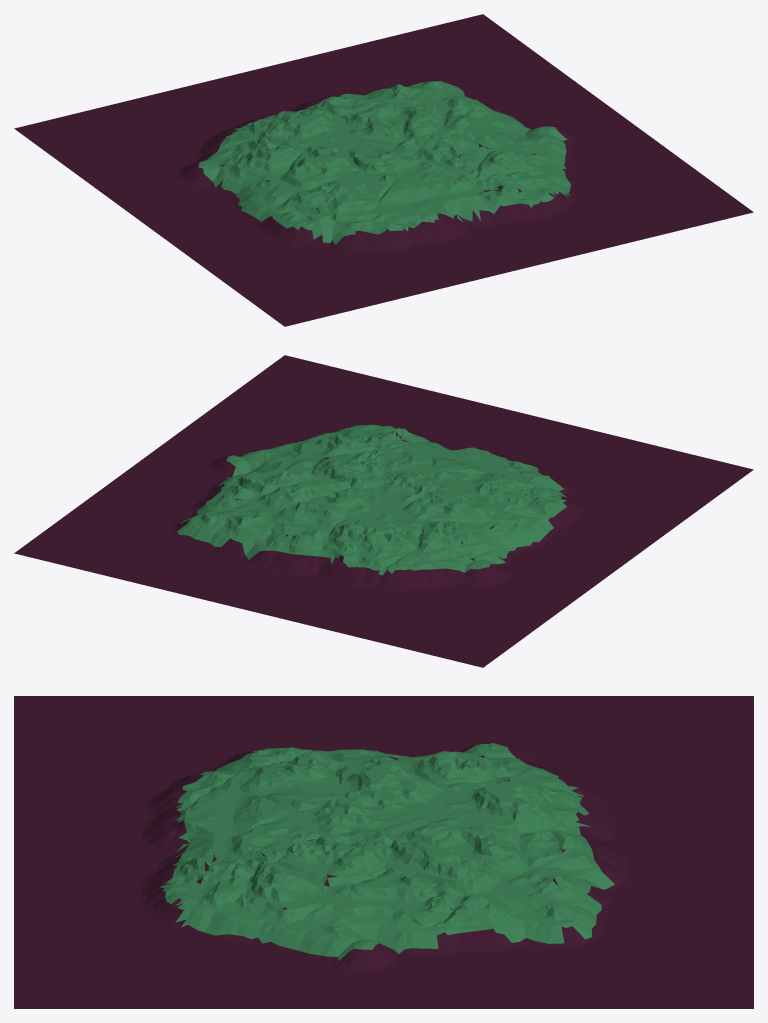
File: Islandtest.glb
The picture shows the model from 3 angles, top to bottom: view 1: azimuth 30°, elevation 25°; view 2: azimuth 150°, elevation 25°; view 3: azimuth 270°, elevation 25°; orthographic projection. The views are drawn at different scales.
Parts seen in each view (by area): view 1: Landscape; view 2: Landscape; view 3: Landscape.
Part boxes in pixels (x1,y1,x2,y2): Landscape: (14,14,753,326); Landscape: (14,355,753,667); Landscape: (14,696,753,1008).
Bounding box in the file's own units: 8 × 0.4533 × 8.
